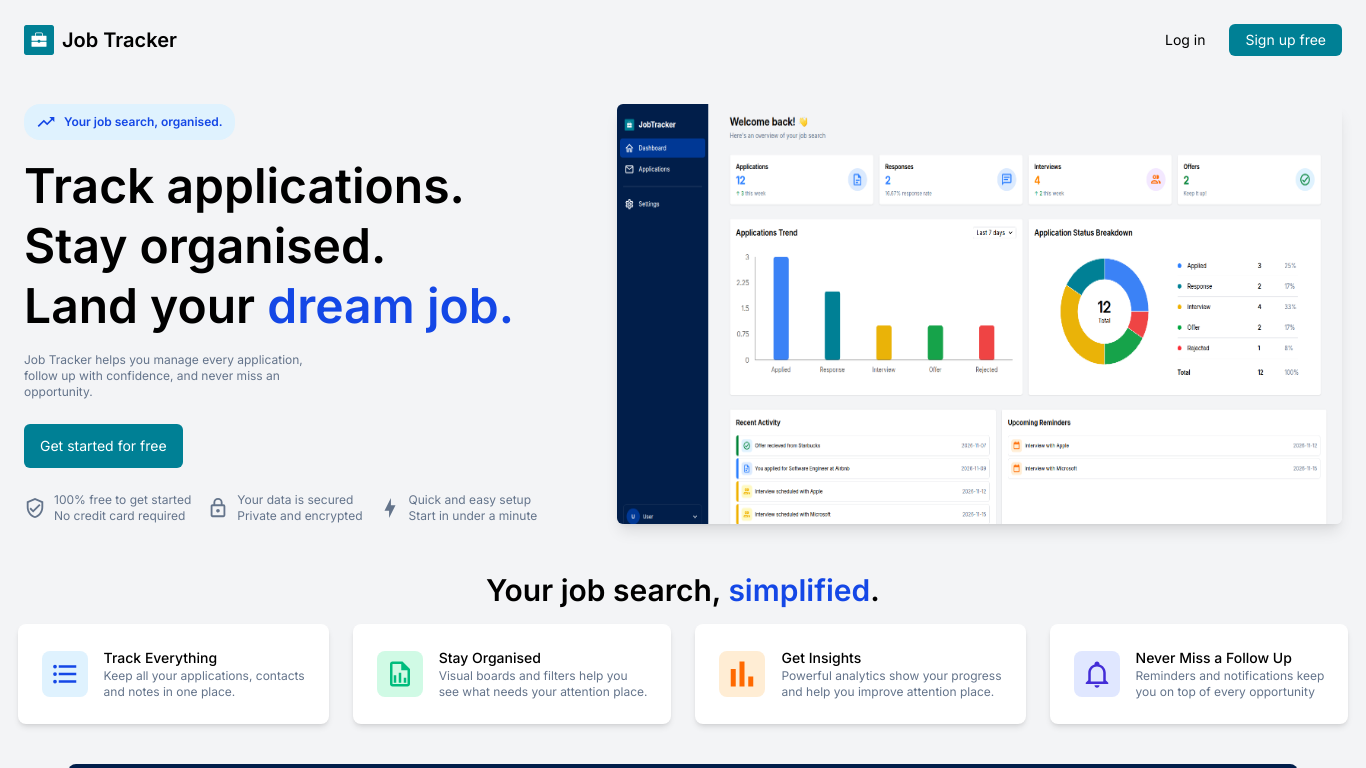
it: Homepage › login button takes you to login page
Click the link "Log in": (1185, 40) [1165,30,1206,50]
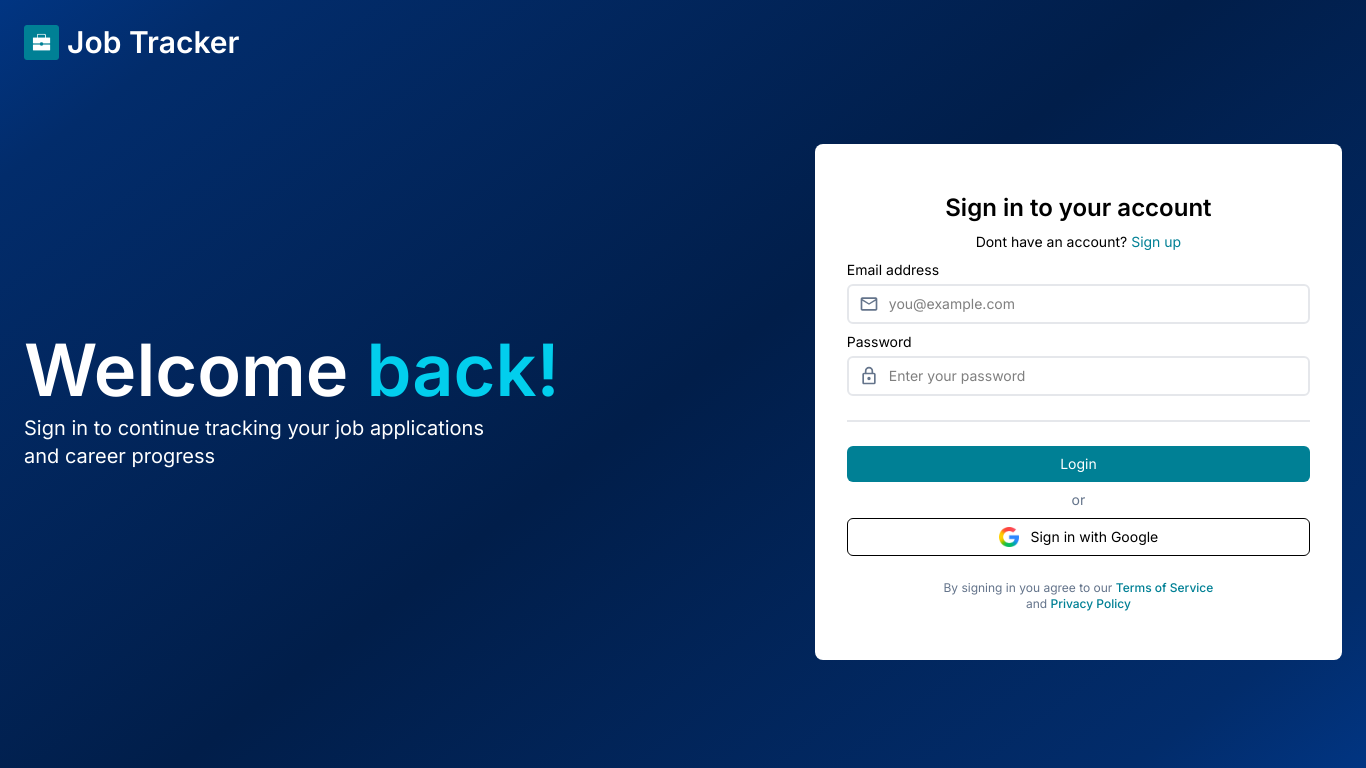
Result: the heading "Welcome back!" is shown at [24,334,560,406]
